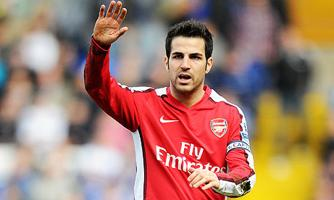person: (83, 1, 257, 200)
